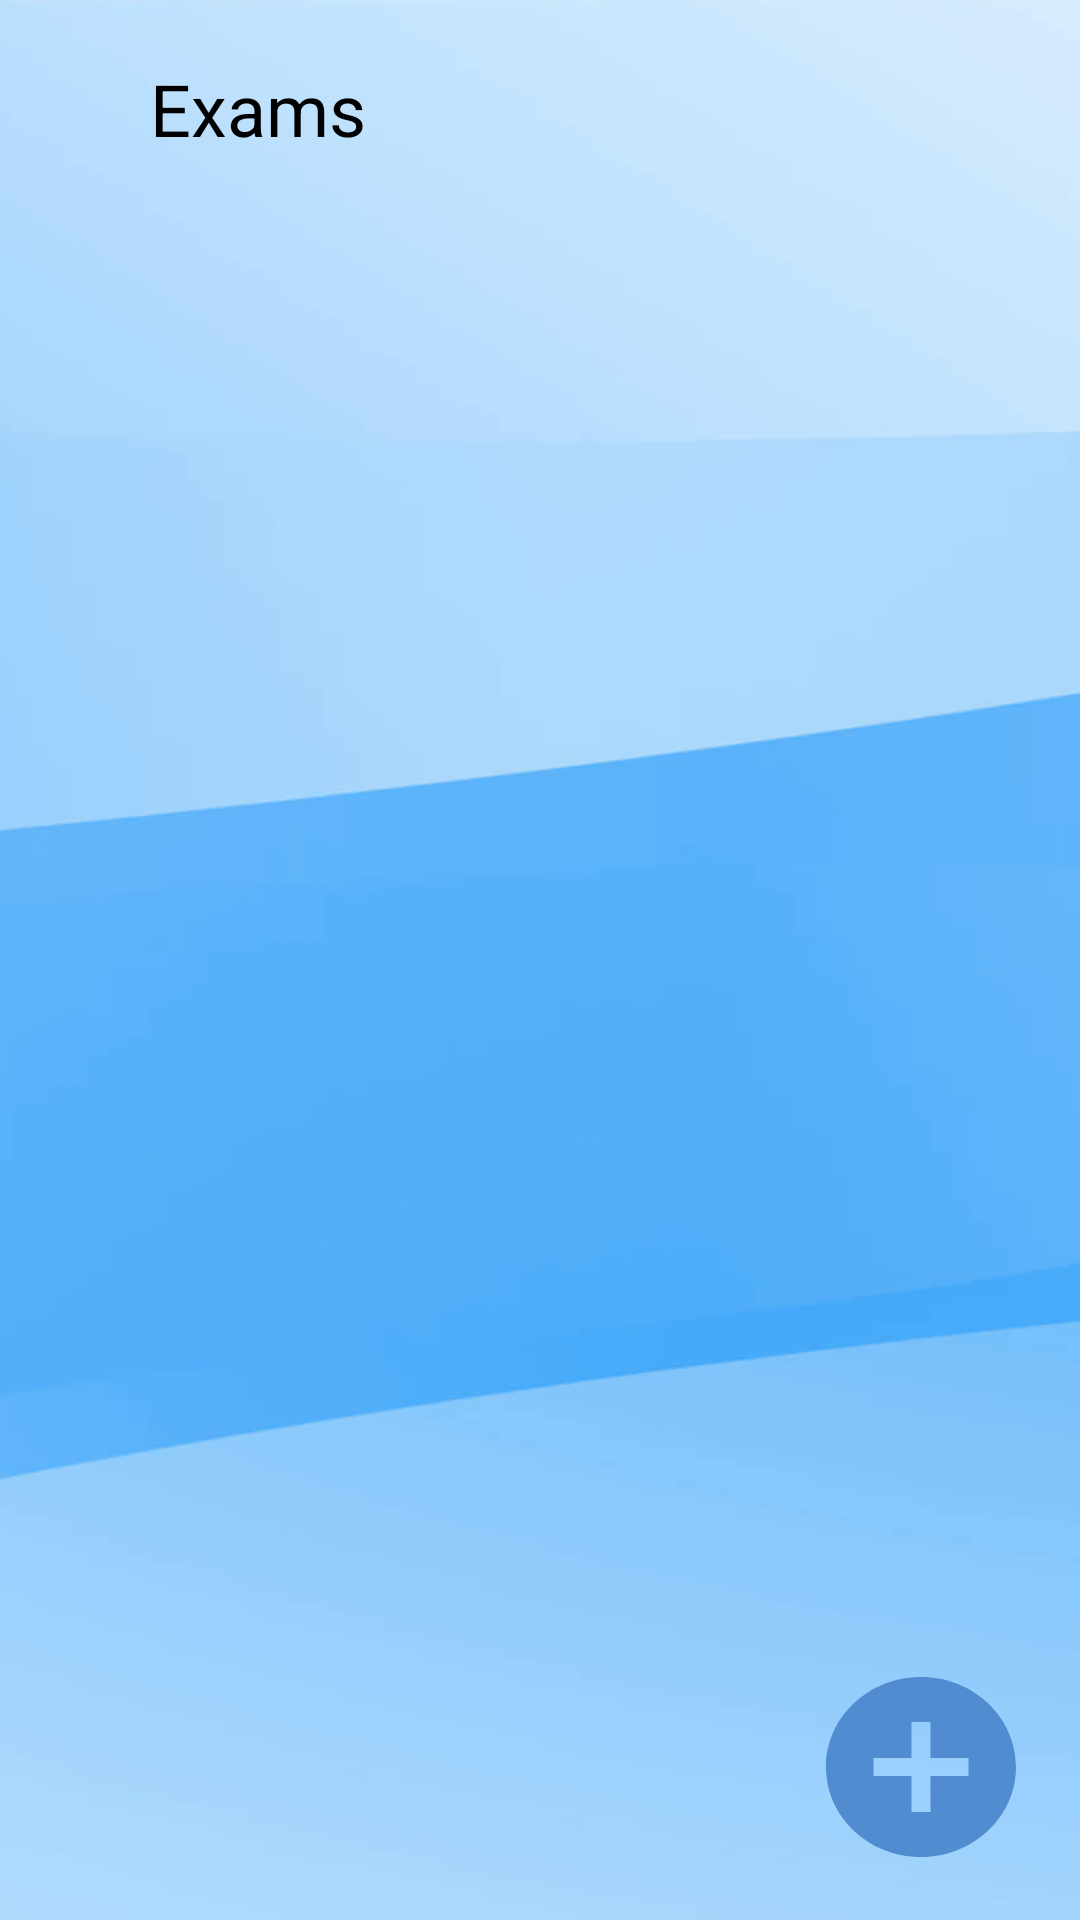

Point at icon controls on the screen. Image size 1080w x 1920h, points as (x=x, y=y).
addentry: (x=921, y=1767)
